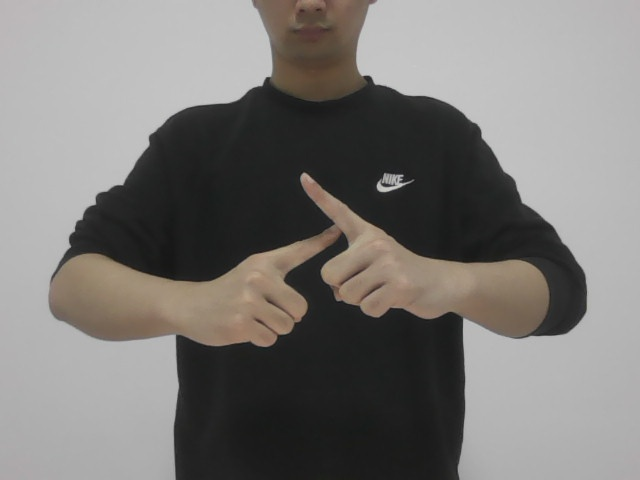peason: (216, 169, 418, 351)
